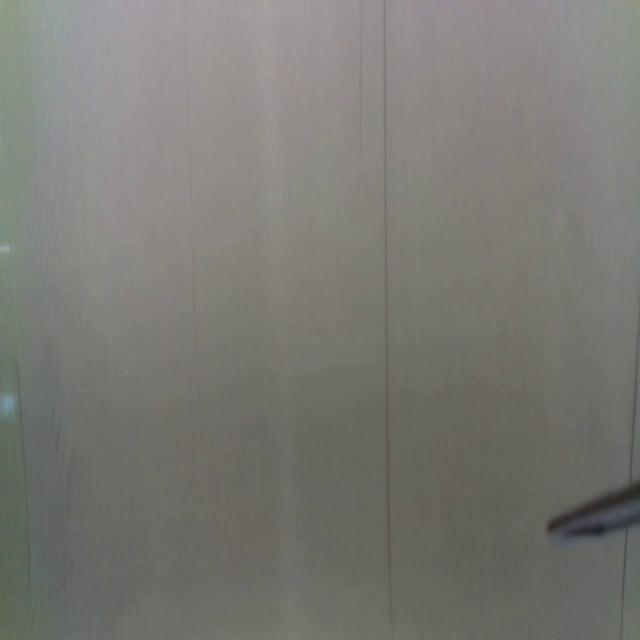crease: (382, 0, 392, 612), (184, 8, 198, 334), (16, 348, 34, 591), (628, 318, 640, 479), (358, 0, 367, 150), (620, 526, 630, 640)
